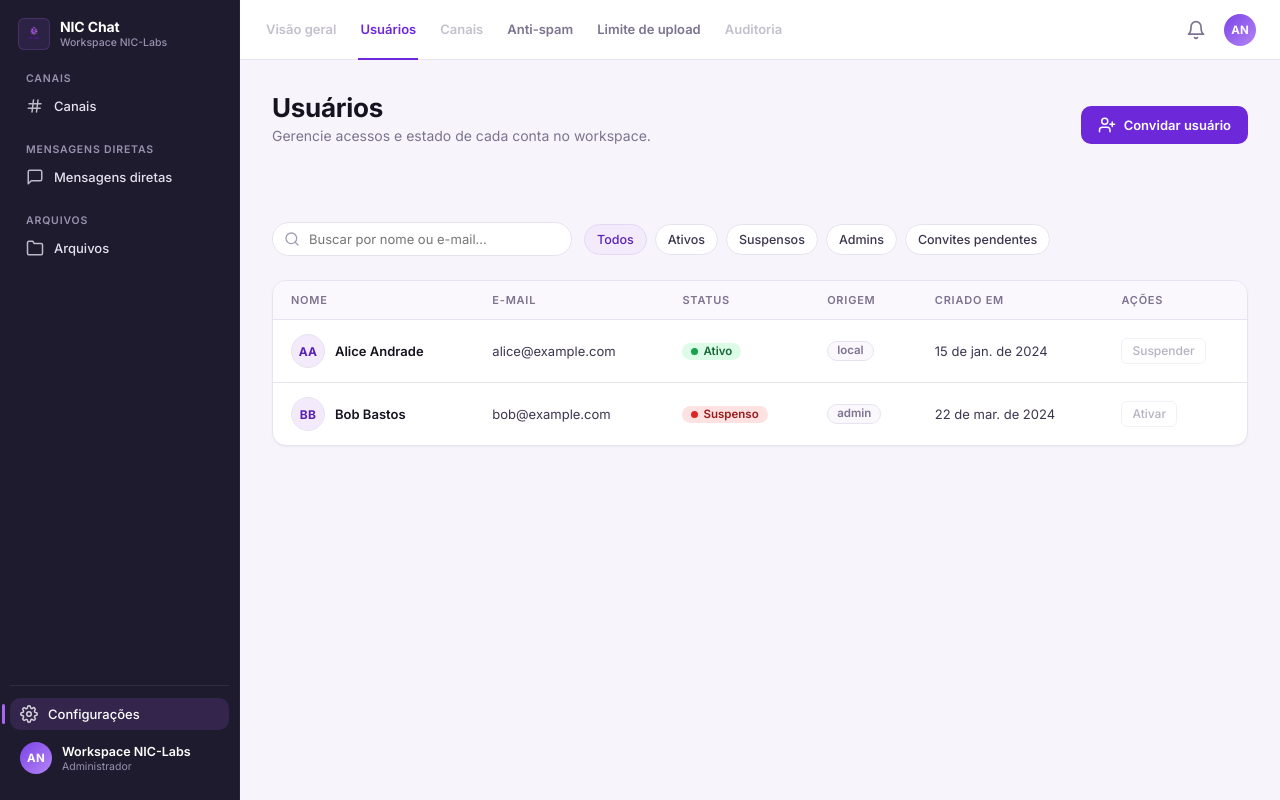
Scenario: AdminUsersPage — search › search filters users by email
Expected: the text "Alice Andrade" is shown, [335, 342, 424, 359]
Type "alice@" into the search field named "buscar usuários". click: point(422, 239)
box: [272, 222, 572, 256]
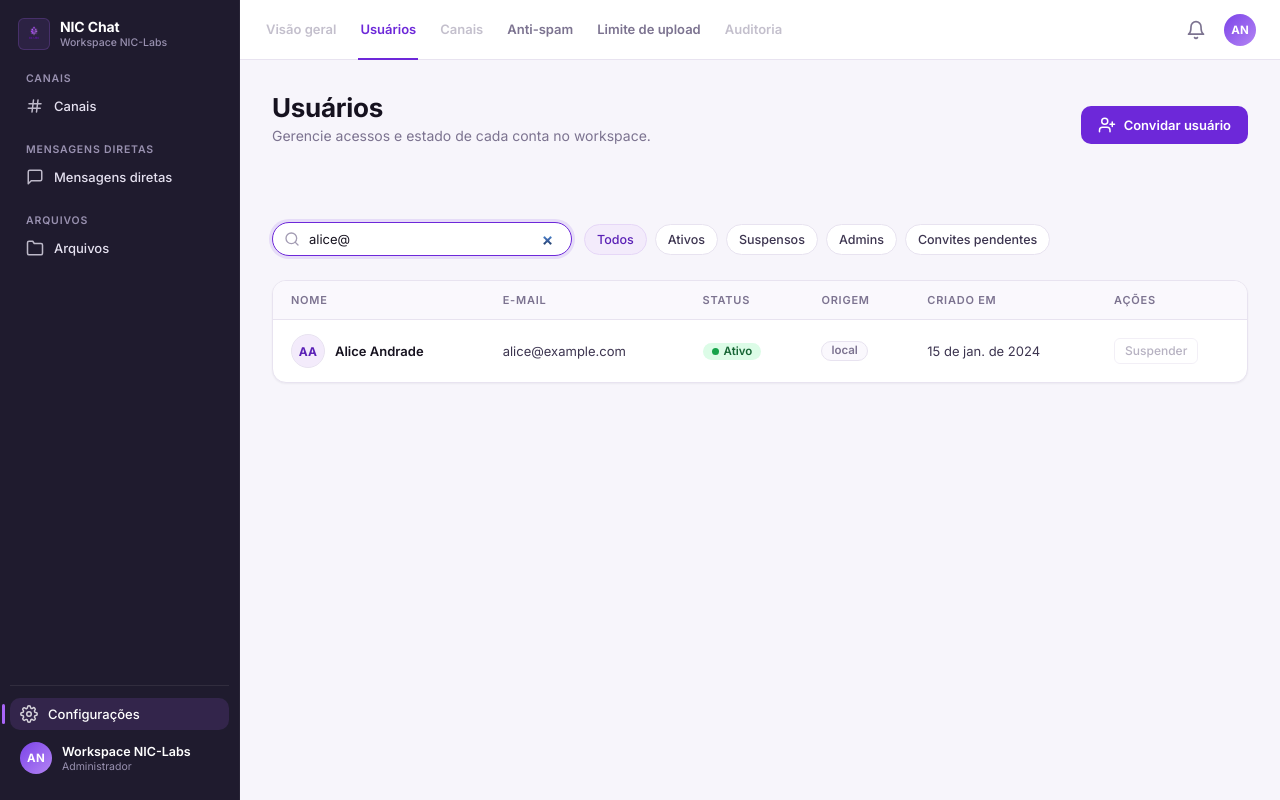
Expected: the text "Alice Andrade" is shown, [335, 342, 424, 359]
Expected: the text "Bob Bastos" is gone
